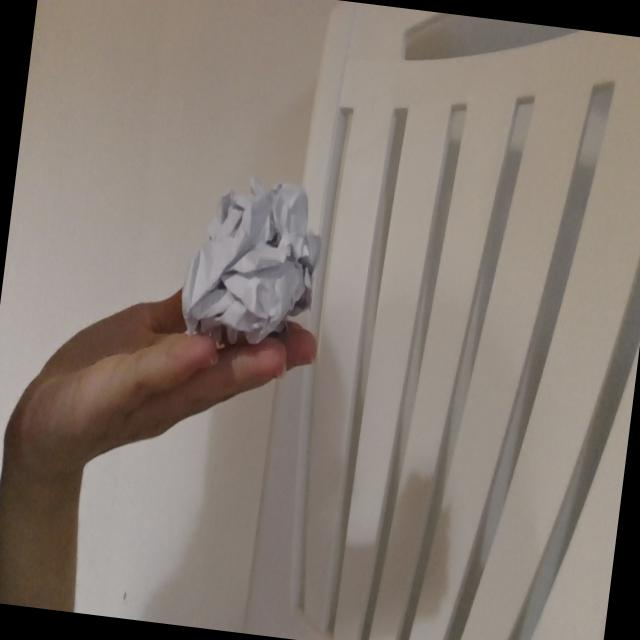crumpled_paper: (173, 164, 329, 358)
